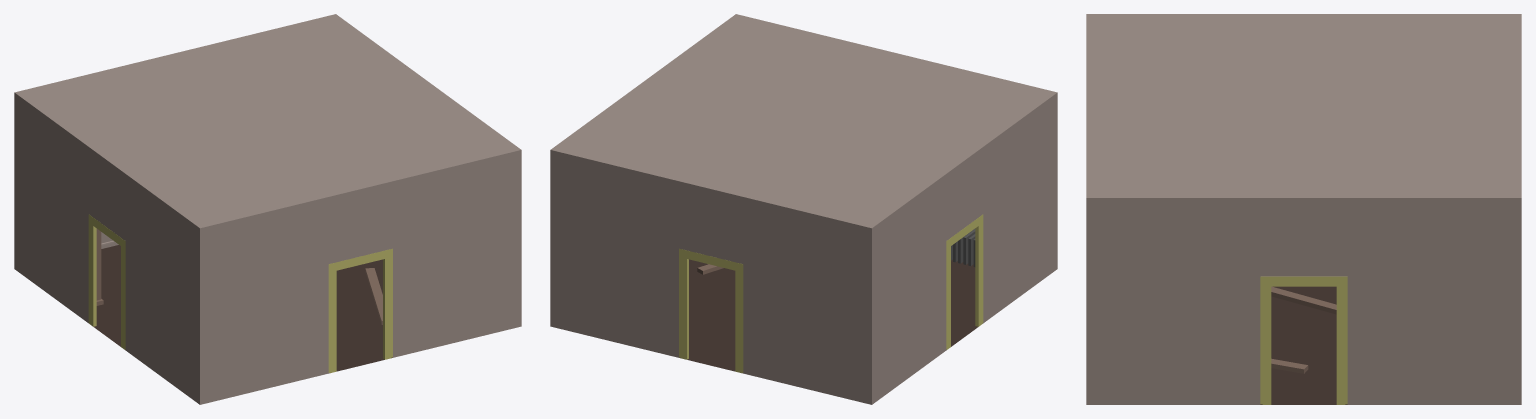
File: Room10_CharredRoom.fbx
3 renders of one model, left to right at view 1: azimuth 30°, elevation 25°; view 2: azimuth 150°, elevation 25°; view 3: azimuth 270°, elevation 25°, orthographic. The views are drawn at different scales.
Visible parts, largest first — view 1: Roof, WallSlicedPosZ, WallSlicedPosX, WallSlicedPosZ20, Floor, WallSlicedPosX18, DoorFramePosZ, DoorFramePosX, WallSlicedNegX, pCube79, WallSlicedNegZ; view 2: Roof, WallSlicedNegZ, WallSlicedPosX, WallSlicedNegZ34, Floor, WallSlicedPosX18, DoorFrameNegZ, DoorFramePosX, heater, WallSlicedNegX, WallSlicedPosZ; view 3: Roof, WallSlicedNegX, WallSlicedNegX12, Floor, DoorFrameNegX, pCube80, WallSlicedPosZ, WallSlicedNegZ, WallSlicedPosX.
Boxes of the visible parts, x1,y1,x2,y2 form: Roof: (17,15,518,227); WallSlicedPosZ: (199,149,520,364); WallSlicedPosX: (14,92,201,363); WallSlicedPosZ20: (198,286,521,404); Floor: (89,245,392,373); WallSlicedPosX18: (14,229,202,404); DoorFramePosZ: (328,248,392,372); DoorFramePosX: (88,214,125,349); WallSlicedNegX: (335,14,521,286); pCube79: (365,268,382,324); WallSlicedNegZ: (14,14,335,227); Roof: (553,15,1054,227); WallSlicedNegZ: (550,149,872,364); WallSlicedPosX: (870,92,1057,364); WallSlicedNegZ34: (550,286,872,404); Floor: (679,259,982,373); WallSlicedPosX18: (869,230,1057,404); DoorFrameNegZ: (679,248,743,372); DoorFramePosX: (946,214,983,349); heater: (951,228,975,266); WallSlicedNegX: (550,14,736,286); WallSlicedPosZ: (736,14,1057,228); Roof: (1088,14,1519,197); WallSlicedNegX: (1086,197,1521,357); WallSlicedNegX12: (1086,357,1521,404); Floor: (1260,286,1347,404); DoorFrameNegX: (1260,276,1347,404); pCube80: (1271,286,1336,314); WallSlicedPosZ: (1086,14,1087,357); WallSlicedNegZ: (1520,14,1521,357); WallSlicedPosX: (1088,14,1521,14).
Bounding box in the file's own units: 800 × 426 × 800.
